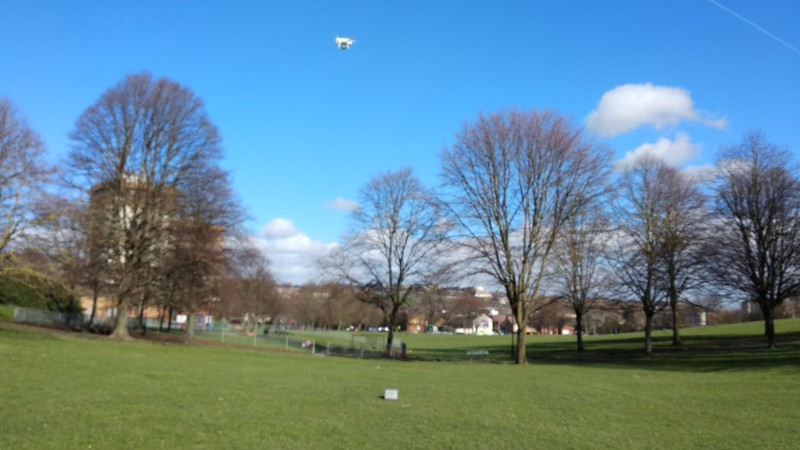drone: (334, 35, 357, 51)
